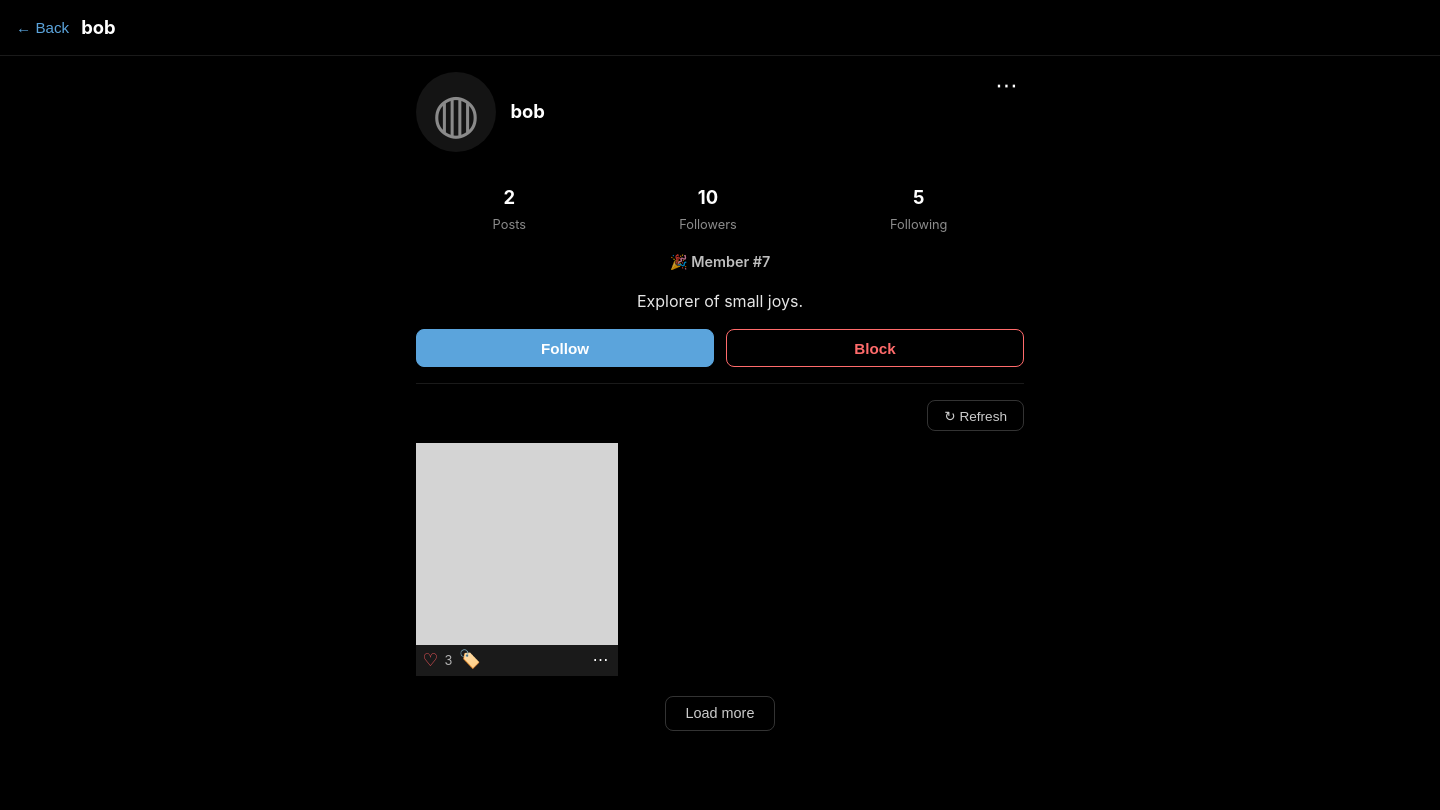
likes a post straight from the grid and reflects the new count
The width and height of the screenshot is (1440, 810).
Expected: the text "3" is shown, [445, 651, 452, 670]
Click the button named "Like post".
click(430, 660)  # box [422, 650, 438, 671]
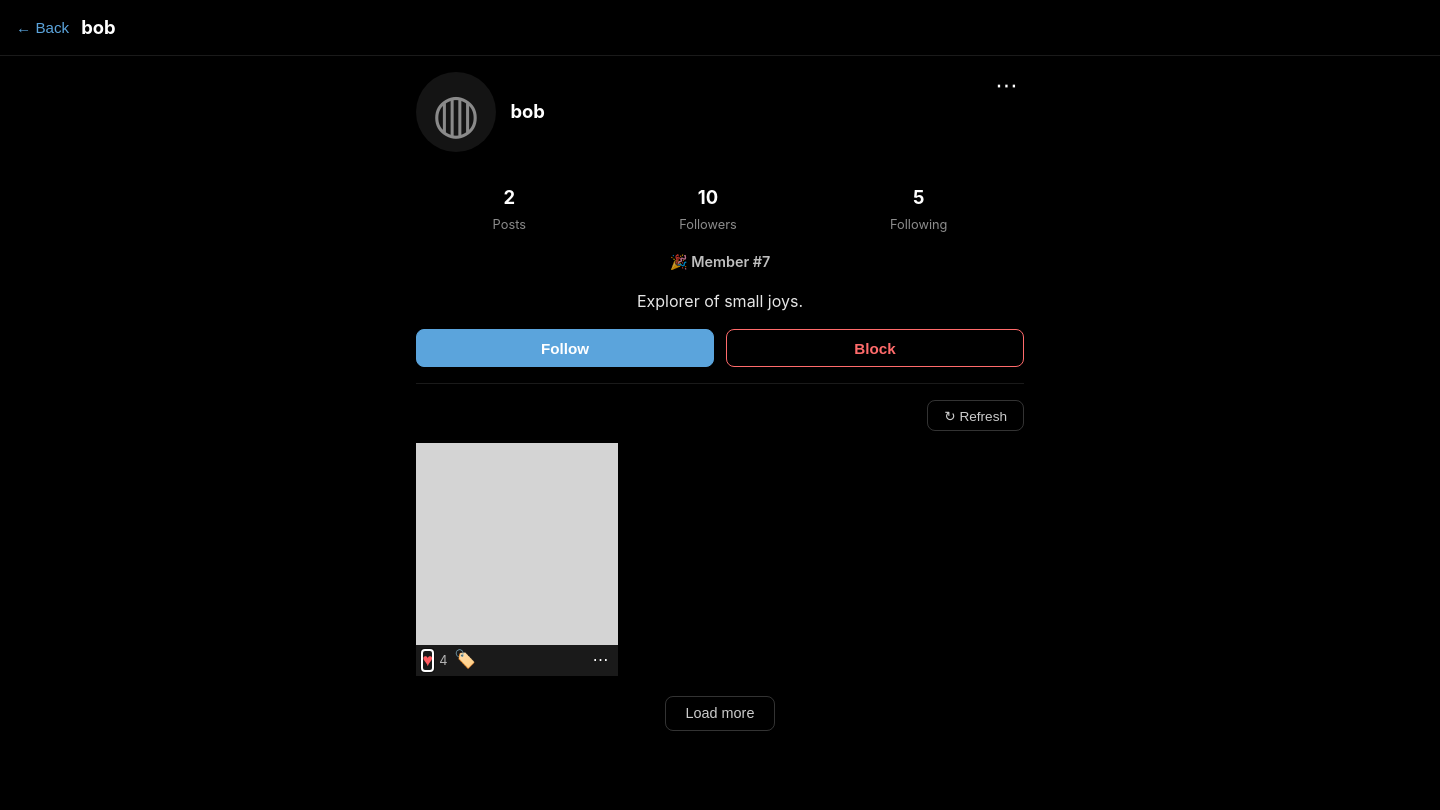
Result: the button named "Unlike post" is shown at [422, 650, 433, 671]
Result: the text "4" is shown at [439, 651, 448, 670]
